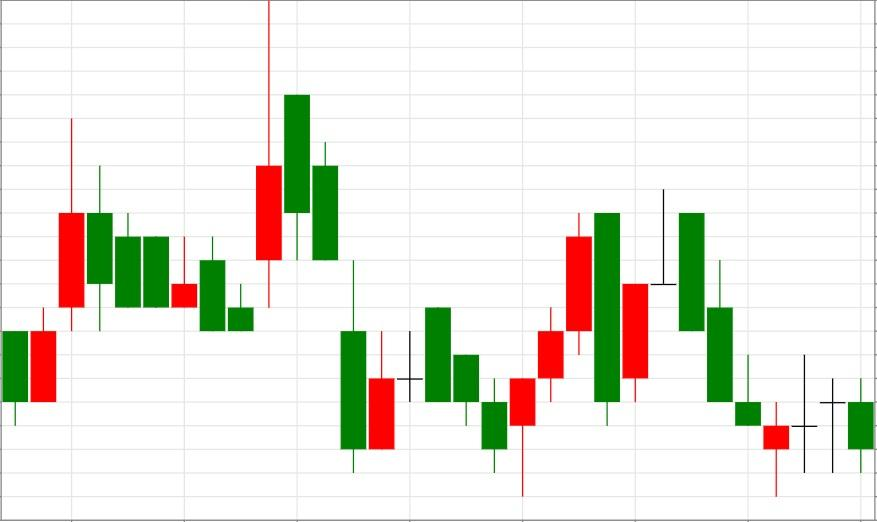three_black_crows_fall: (509, 189, 761, 497)
three_white_soldiers_rise: (425, 211, 592, 498)
